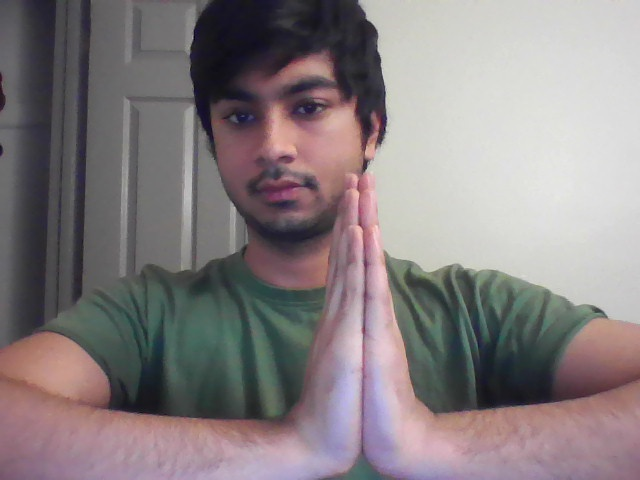start: (287, 160, 437, 480)
